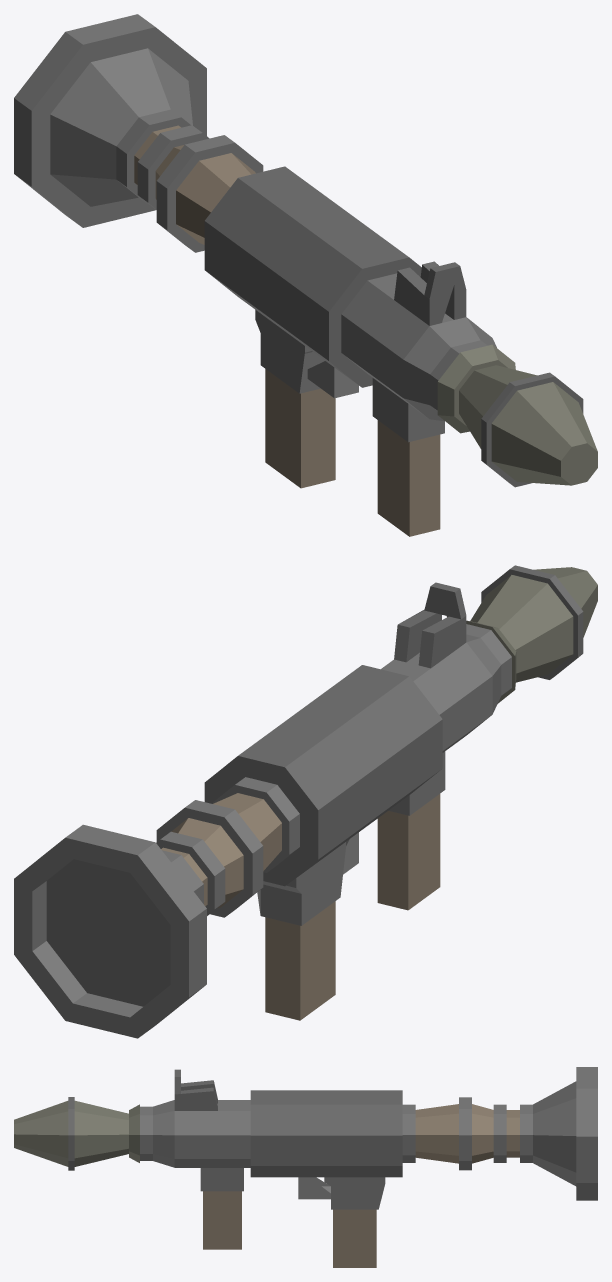
The model's file is rocketlauncher.glb.
The picture shows the model from 3 angles, top to bottom: view 1: azimuth 30°, elevation 25°; view 2: azimuth 150°, elevation 25°; view 3: azimuth 270°, elevation 25°; orthographic projection. The views are drawn at different scales.
Visible parts, largest first — view 1: rocketlauncher; view 2: rocketlauncher; view 3: rocketlauncher.
Part boxes in pixels (x1,y1,x2,y2): rocketlauncher: (14, 14, 597, 536); rocketlauncher: (14, 565, 597, 1038); rocketlauncher: (14, 1067, 597, 1267).
Size of the model in its own units: 0.0342 by 0.0578 by 0.1614.
